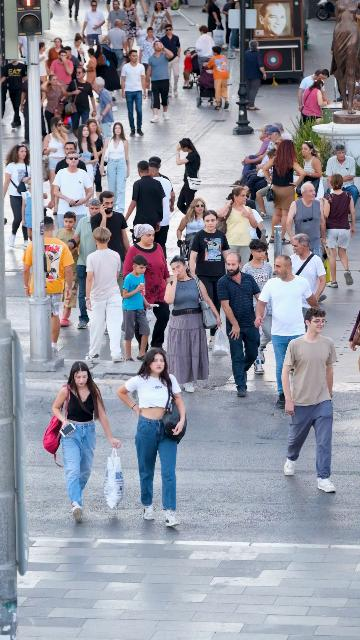person: (115, 347, 188, 529), (51, 361, 121, 524), (281, 308, 338, 494), (254, 255, 321, 411), (163, 254, 223, 394), (22, 215, 76, 356), (217, 252, 263, 398), (123, 222, 171, 349), (188, 210, 231, 349), (84, 226, 127, 364), (262, 139, 308, 245), (67, 198, 103, 329), (241, 239, 274, 376), (322, 174, 356, 287), (90, 191, 132, 281), (231, 125, 282, 198), (216, 185, 259, 269), (122, 255, 156, 361), (125, 161, 167, 246), (51, 152, 95, 230), (285, 181, 327, 262), (289, 233, 327, 315), (54, 212, 81, 327), (3, 145, 32, 249), (100, 122, 130, 214), (229, 125, 272, 187), (148, 161, 176, 250), (146, 39, 175, 124), (120, 49, 148, 137), (65, 66, 98, 139), (42, 118, 74, 193), (326, 144, 359, 215), (175, 137, 201, 216), (0, 58, 28, 130), (20, 176, 49, 244), (40, 74, 69, 136), (203, 46, 231, 110), (176, 197, 208, 252), (297, 69, 329, 123), (91, 76, 116, 144), (158, 24, 181, 97), (243, 40, 266, 111), (76, 125, 98, 198), (255, 148, 277, 220), (97, 35, 121, 97), (299, 140, 324, 199), (87, 119, 106, 193), (81, 0, 106, 56), (301, 80, 330, 126), (55, 142, 88, 179), (106, 19, 129, 70), (192, 25, 216, 73), (134, 27, 161, 69), (244, 207, 267, 249), (149, 1, 174, 38), (49, 49, 74, 85), (65, 46, 84, 86), (69, 33, 89, 70), (84, 48, 98, 100), (46, 37, 66, 73), (204, 0, 224, 36), (19, 74, 29, 145), (149, 156, 172, 184), (107, 0, 128, 30), (39, 42, 52, 83), (182, 50, 194, 89), (272, 122, 293, 140), (106, 0, 111, 11)
